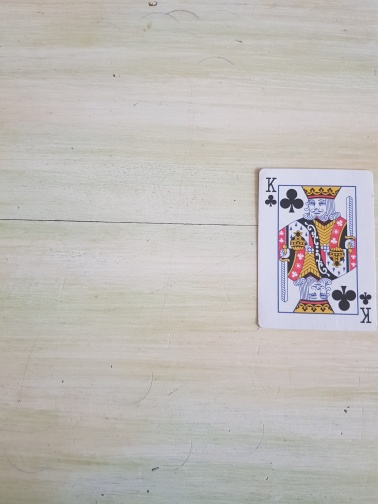king: (257, 167, 378, 331)
